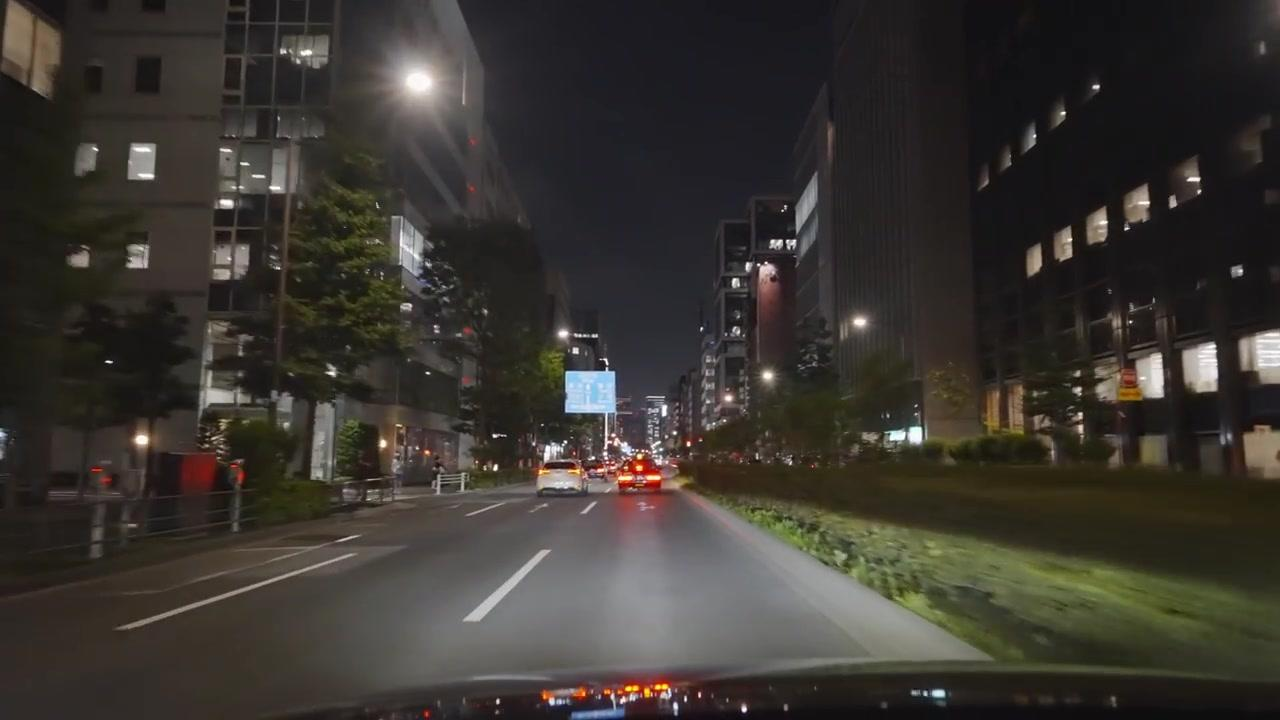car: (536, 459, 588, 497), (617, 465, 663, 493)
